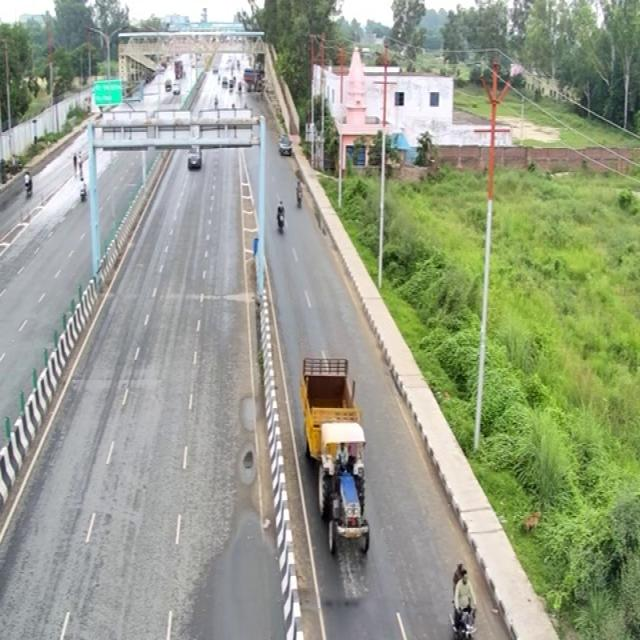car: (184, 137, 206, 171)
